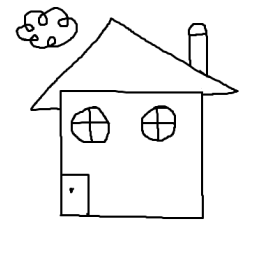chimney: (188, 22, 208, 76)
closed_window: (69, 105, 110, 143), (139, 103, 176, 143)
clouds: (16, 5, 78, 48)
door: (57, 170, 95, 221)
roof: (30, 16, 239, 111)
wall: (56, 84, 209, 221)
